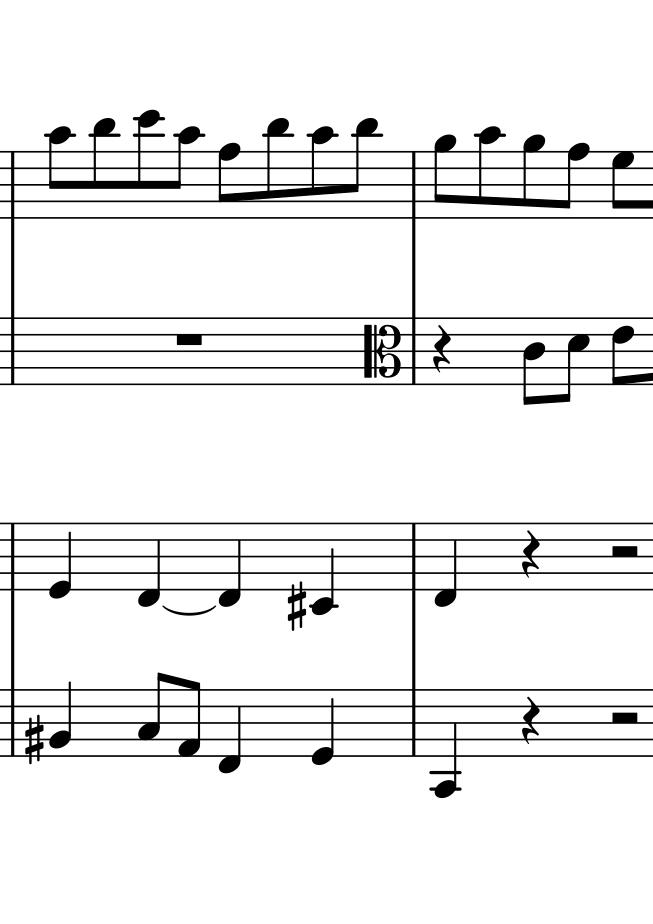4_-1: (215, 522, 243, 608), (432, 520, 459, 608), (135, 521, 162, 607), (219, 688, 244, 774)
4_-2: (309, 519, 337, 615)
4_-4: (432, 689, 459, 799)
4_0: (308, 687, 337, 765), (47, 521, 74, 599)
4_2: (48, 678, 74, 758)
8_1: (178, 677, 202, 758)
8_10: (44, 123, 78, 219), (168, 125, 202, 221), (477, 124, 504, 220), (309, 125, 335, 221)
8_11: (348, 117, 380, 220), (263, 116, 291, 220), (90, 118, 116, 222)
8_12: (136, 108, 160, 222)
8_3: (138, 670, 169, 758)
8_4: (521, 316, 545, 407)
8_5: (556, 317, 590, 403)
8_6: (610, 316, 636, 388)
8_7: (611, 148, 634, 220)
8_8: (556, 142, 591, 220), (217, 139, 242, 221)
8_9: (433, 132, 458, 220), (522, 134, 546, 220)
Cclef: (361, 315, 405, 387)
Rests1: (174, 329, 205, 348)
Rests2: (606, 709, 640, 728), (607, 543, 642, 561)
Rests4: (430, 322, 455, 373), (522, 695, 542, 747), (521, 529, 541, 580)
Sharp: (22, 713, 45, 765), (286, 580, 305, 631)
Single_barline: (405, 522, 425, 591), (405, 150, 424, 218), (5, 522, 23, 590), (406, 317, 424, 384), (3, 315, 20, 385), (6, 150, 23, 219), (406, 688, 423, 756), (6, 688, 20, 757)
Slur: (158, 603, 216, 617)
